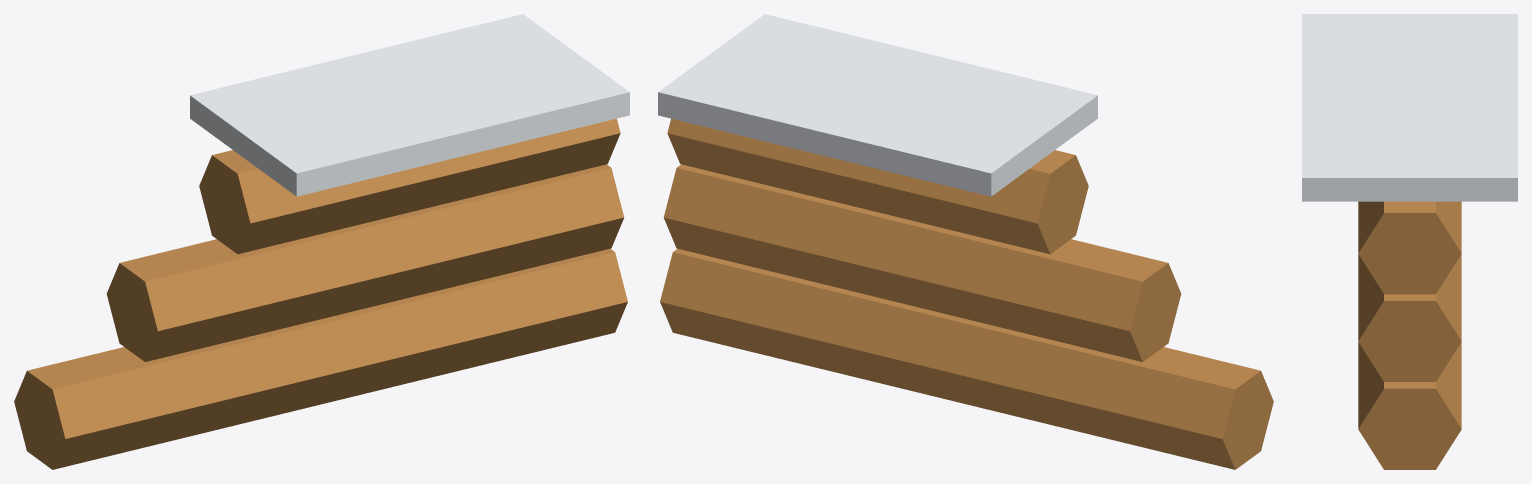
The model's file is firewood_stack.glb.
3 renders of one model, left to right at view 1: azimuth 30°, elevation 25°; view 2: azimuth 150°, elevation 25°; view 3: azimuth 270°, elevation 25°, orthographic.
Visible parts, largest first — view 1: firewood_stack; view 2: firewood_stack; view 3: firewood_stack.
Part boxes in pixels (x1=…): firewood_stack: x1=14, y1=14, x2=629, y2=469; firewood_stack: x1=658, y1=14, x2=1273, y2=469; firewood_stack: x1=1302, y1=14, x2=1517, y2=469.
Bounding box in the file's own units: 1.52 × 0.7139 × 0.5.
